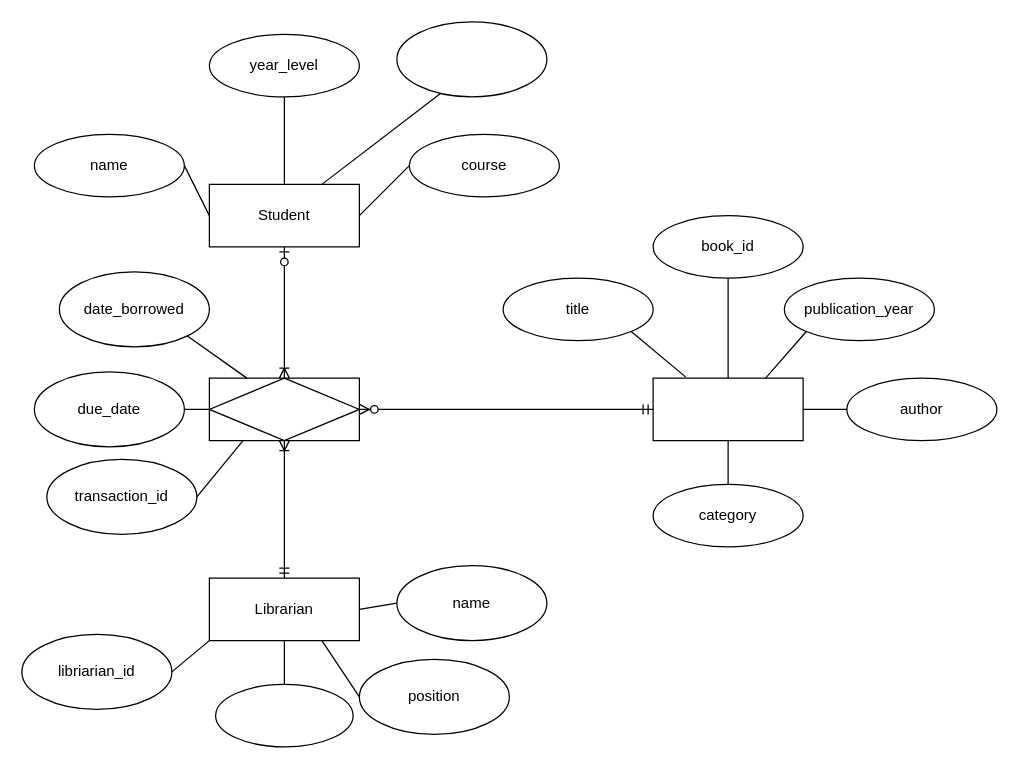
Some shapes in this 1019 by 769 pixel diagram are drawn without their labels. The shapes that lost their labels are listed below. From the top down, each one's box as (x1, y1, x2, y2) in pixels, then its label:
(396, 21, 547, 97): student_id
(208, 377, 359, 441): borrow
(652, 377, 803, 441): Book
(214, 683, 353, 747): contact_info
